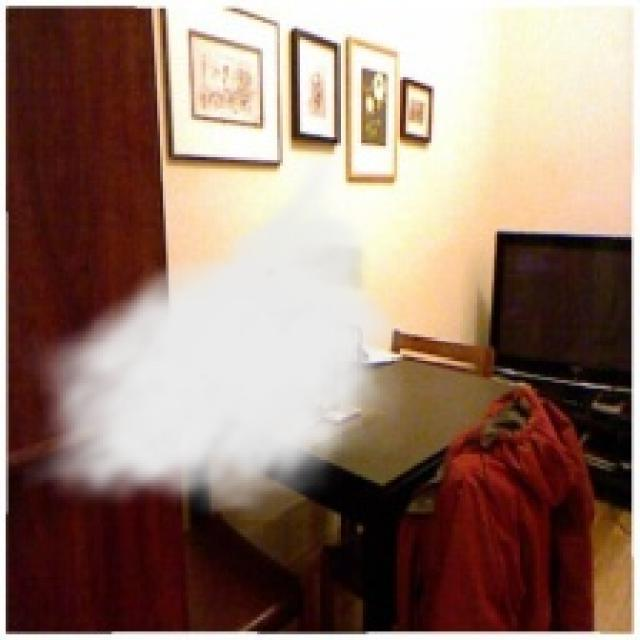Smoke: (19, 137, 414, 523)
